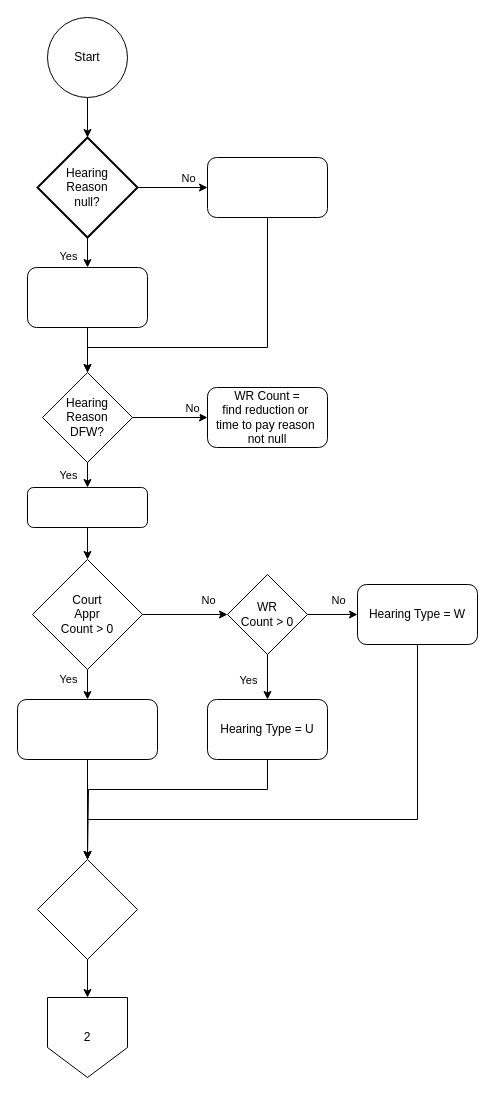
Image size: 495x1095. Some labels were removed from this diagram. The shapes that lost their labels are listed below. From the top down, each one's centre as x and y in pixels, then its label:
At pixel 267 187: "court appearance count = 1".
At pixel 87 297: "get count where requested court appearance".
At pixel 87 507: "WR Count = 1".
At pixel 87 729: "Hearing Type = C Dispute Status = HEAR".
At pixel 87 909: "Hearing Type != U?".
